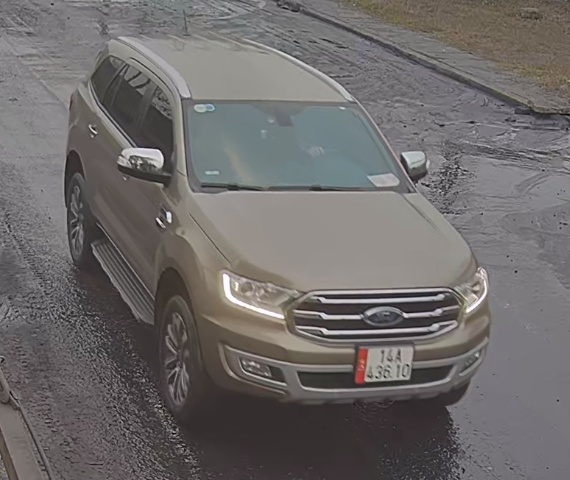vehicle plate: (348, 336, 418, 387)
